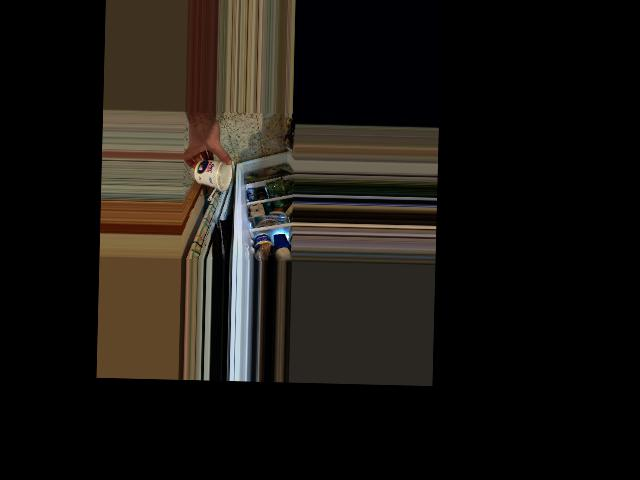cotage: (195, 155, 232, 191)
